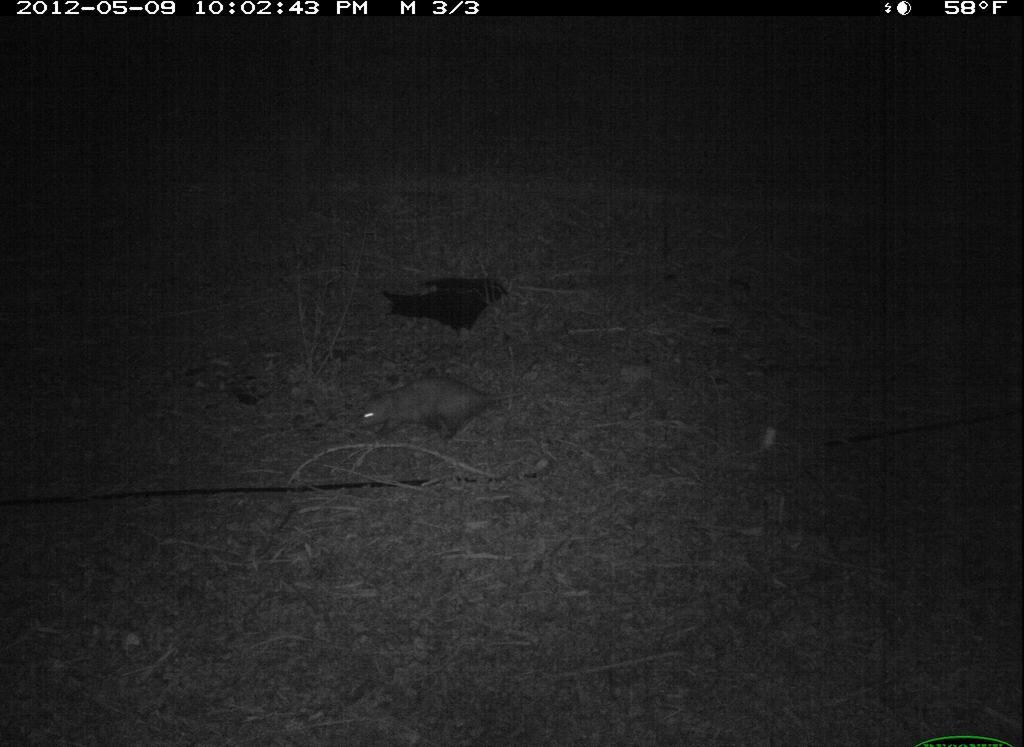opossum: (350, 370, 542, 452)
